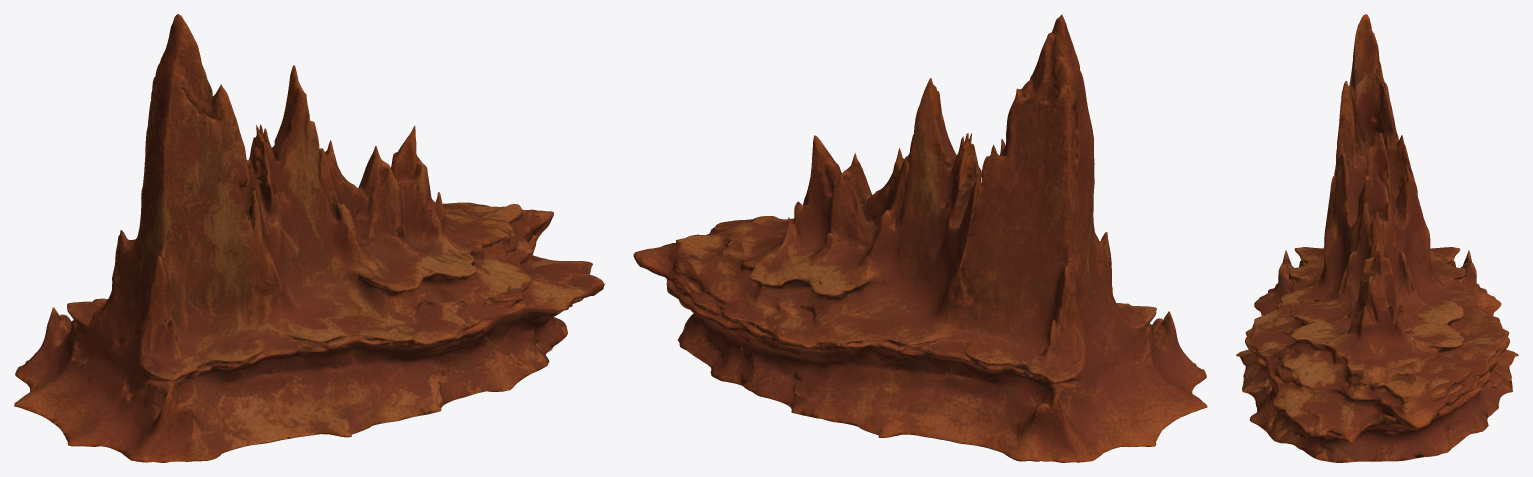
The model's file is roca_obelisco.fbx.
3 renders of one model, left to right at view 1: azimuth 30°, elevation 25°; view 2: azimuth 150°, elevation 25°; view 3: azimuth 270°, elevation 25°, orthographic. The views are drawn at different scales.
Parts seen in each view (by area): view 1: tripo_node_b4046d6f; view 2: tripo_node_b4046d6f; view 3: tripo_node_b4046d6f.
Part boxes in pixels (x1=…): tripo_node_b4046d6f: x1=14, y1=14, x2=604, y2=462; tripo_node_b4046d6f: x1=633, y1=14, x2=1207, y2=462; tripo_node_b4046d6f: x1=1236, y1=14, x2=1518, y2=462.
Bounding box in the file's own units: 1 × 0.6869 × 0.5735.
Materials: 1 (1 with a texture image).
